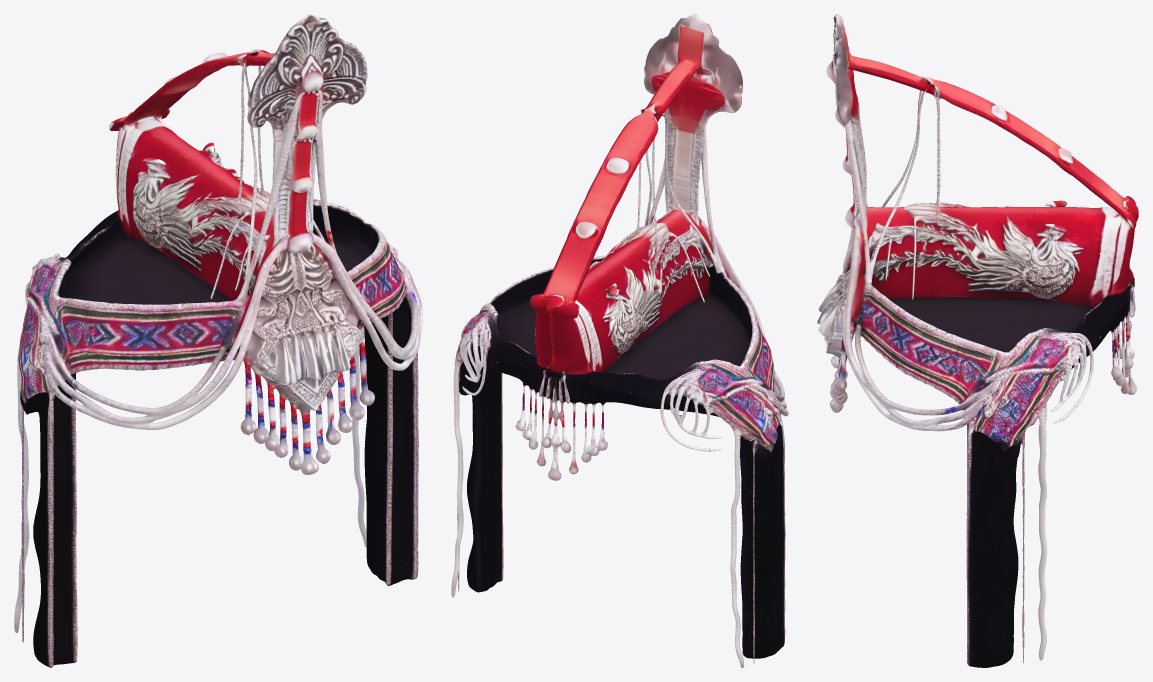
File: base_basic_shaded.glb
3 views of the same model, side by side, from view 1: azimuth 30°, elevation 25°; view 2: azimuth 150°, elevation 25°; view 3: azimuth 270°, elevation 25° (orthographic). The views are drawn at different scales.
Visible parts, largest first — view 1: model; view 2: model; view 3: model.
Part boxes in pixels (<box>): model: <box>14,14,422,667</box>; model: <box>451,14,788,667</box>; model: <box>817,14,1138,667</box>.
Size of the model in its own units: 1.12 by 1.89 by 0.9561.
1 material, 1 textured.
